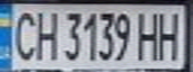1: (78, 8, 100, 62)
3: (60, 8, 84, 61), (97, 9, 118, 62)
9: (112, 8, 136, 62)
C: (6, 7, 42, 62)
H: (154, 8, 187, 61), (30, 7, 60, 62), (133, 8, 163, 61)
